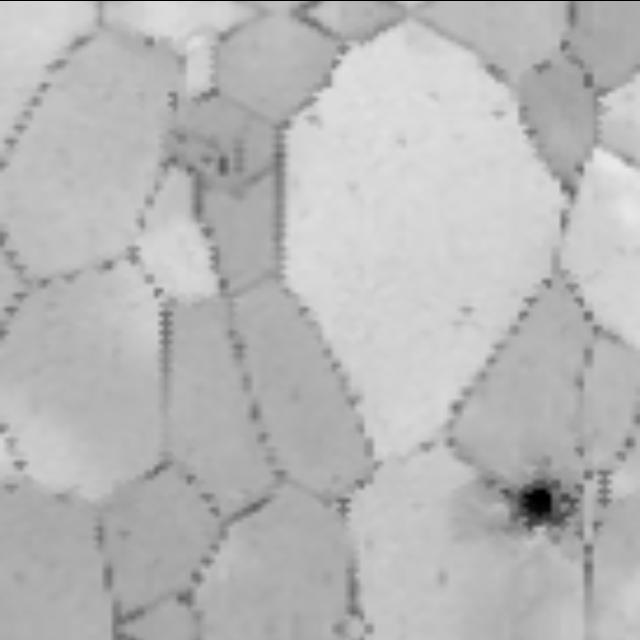good_void: (449, 439, 602, 558), (199, 132, 248, 180), (441, 298, 485, 340)
